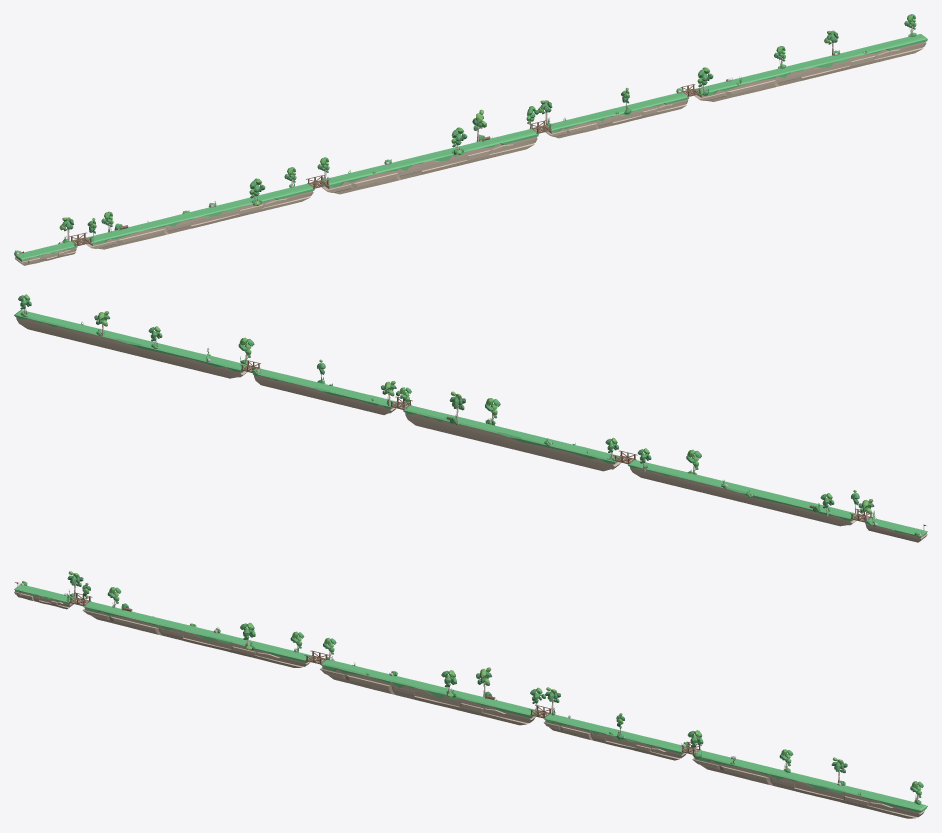
Rendered from Park_Map_lvl_2_LANG.fbx.
3 renders of one model, top to bottom at view 1: azimuth 30°, elevation 25°; view 2: azimuth 150°, elevation 25°; view 3: azimuth 330°, elevation 25°, orthographic.
Parts seen in each view (by area): view 1: polySurface1711; view 2: polySurface1711; view 3: polySurface1711.
Boxes of the visible parts, box(x1,y1,x2,y2) form: polySurface1711: box(14, 14, 927, 265); polySurface1711: box(14, 294, 927, 542); polySurface1711: box(14, 571, 927, 818).
Bounding box in the file's own units: 558 × 25.76 × 14.78.
